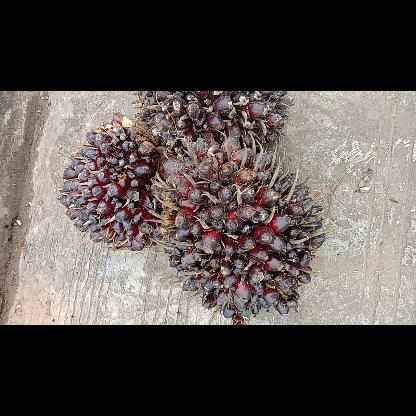TBS mentah: (154, 138, 328, 324), (56, 111, 184, 253), (132, 91, 296, 165)
